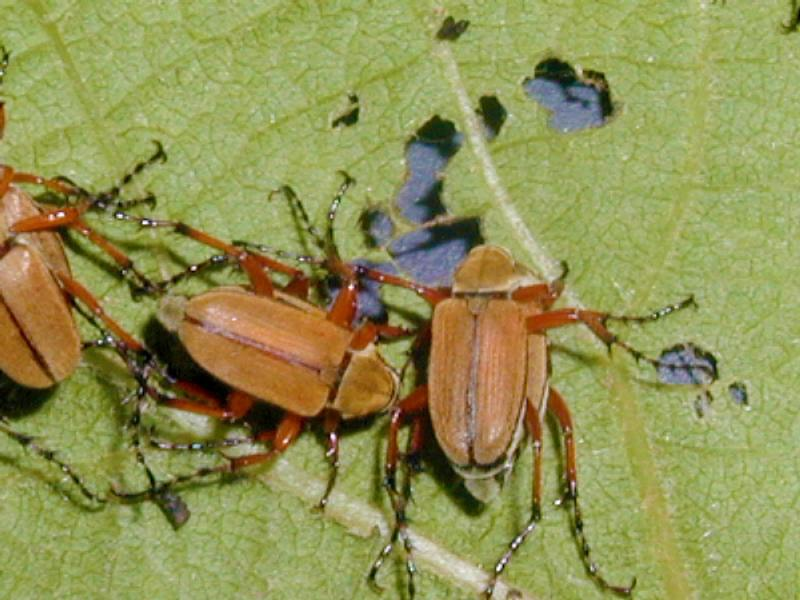Spiny_beetle: (131, 261, 397, 448), (407, 230, 577, 494)
